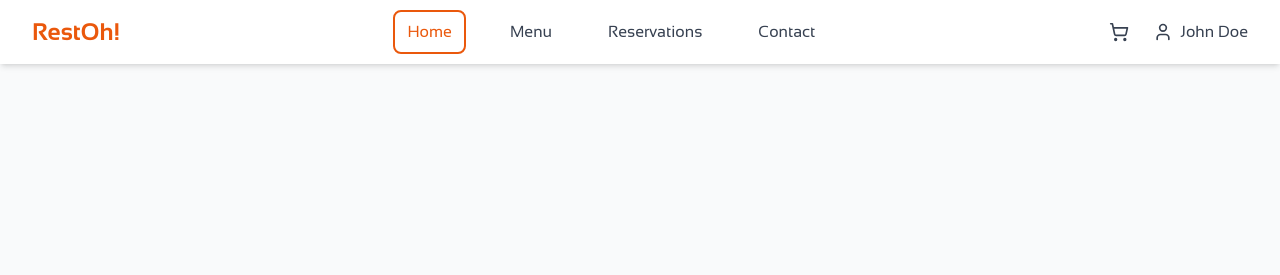
Test: Header Component › User Menu Interactions › should close user menu when menu items are clicked
# Open menu
Click the button "John Doe" at (1200, 32), box [1153,20,1248,44]
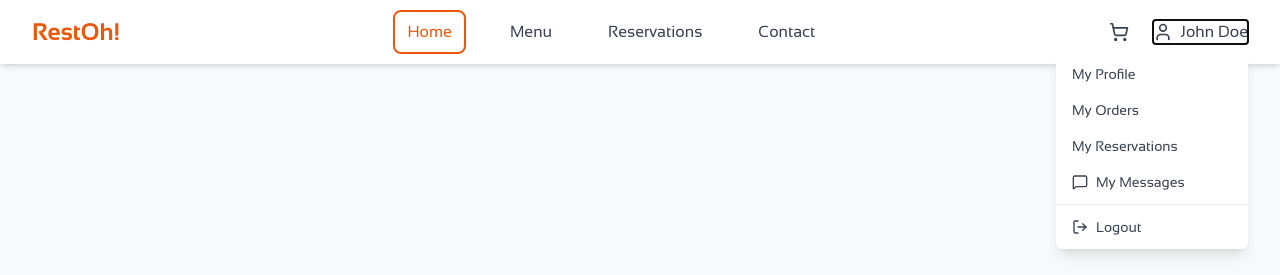
# Click on a menu item
Click the link "My Profile" at (1104, 74), box [1072,66,1136,82]
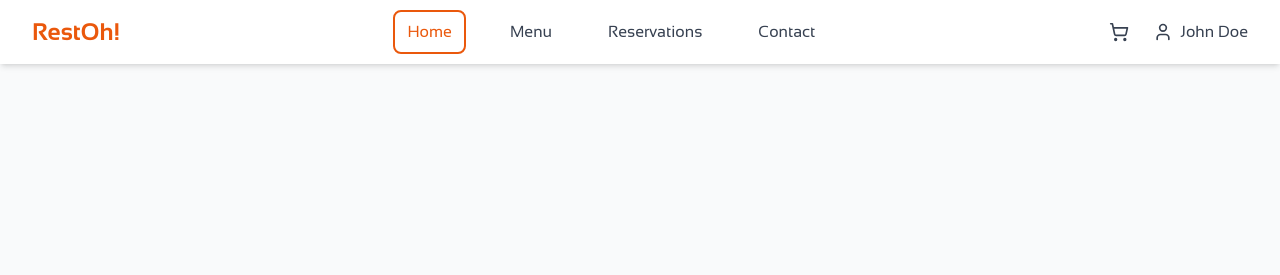
Result: the link "My Orders" is gone
